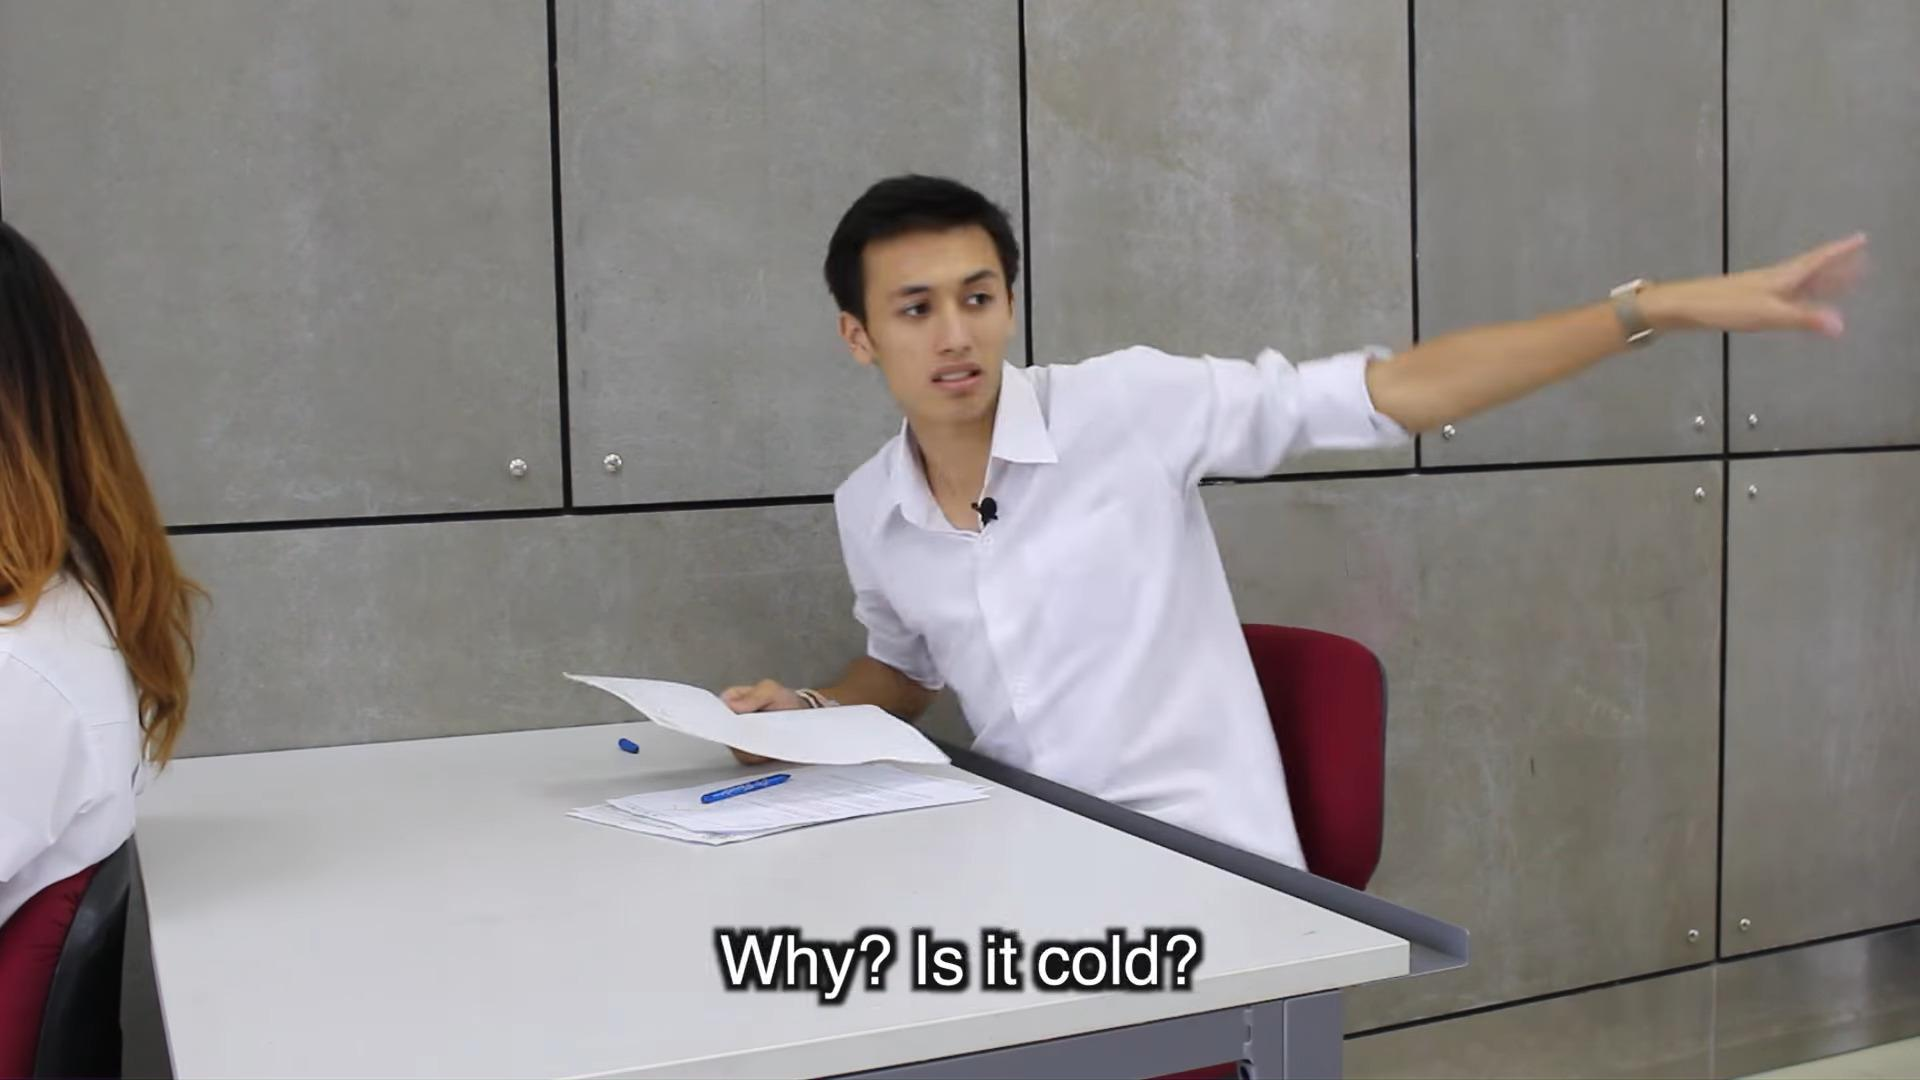cheating: (510, 131, 1890, 881)
